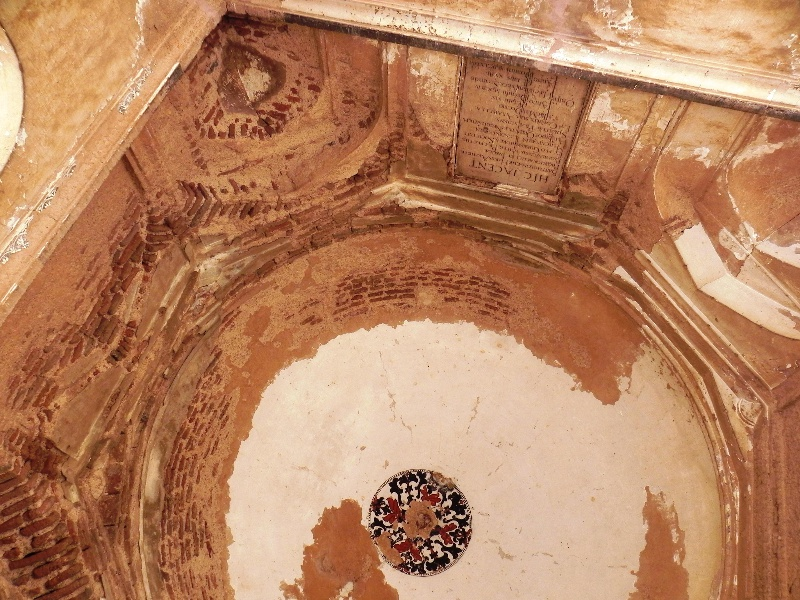Exposed Bricks: (56, 172, 263, 364), (3, 373, 99, 597), (147, 377, 238, 595), (333, 269, 516, 319)
Spalling: (287, 507, 377, 597), (630, 485, 692, 596)
